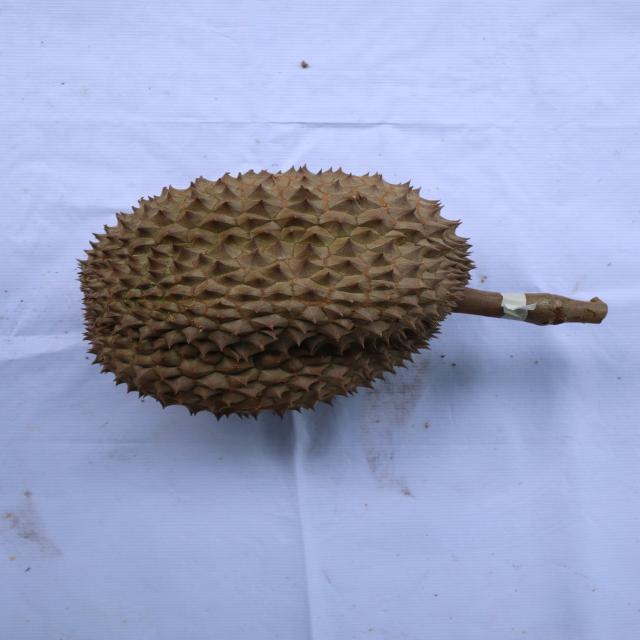mature: (80, 163, 475, 424)
